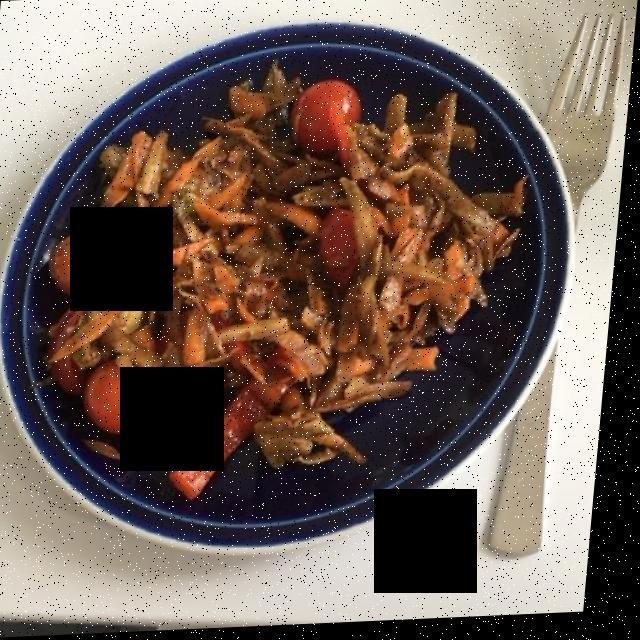bell-pepper: (173, 365, 306, 495)
carrot: (115, 134, 501, 375)
tomato: (54, 81, 376, 434)
